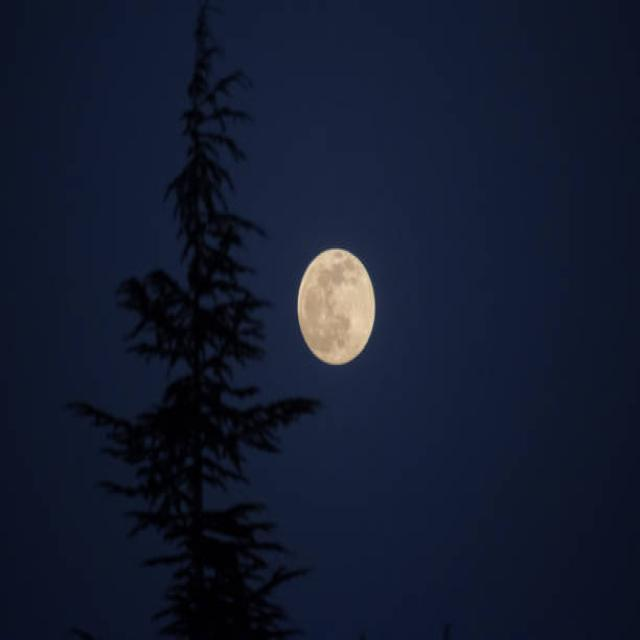moon: (298, 246, 377, 364)
